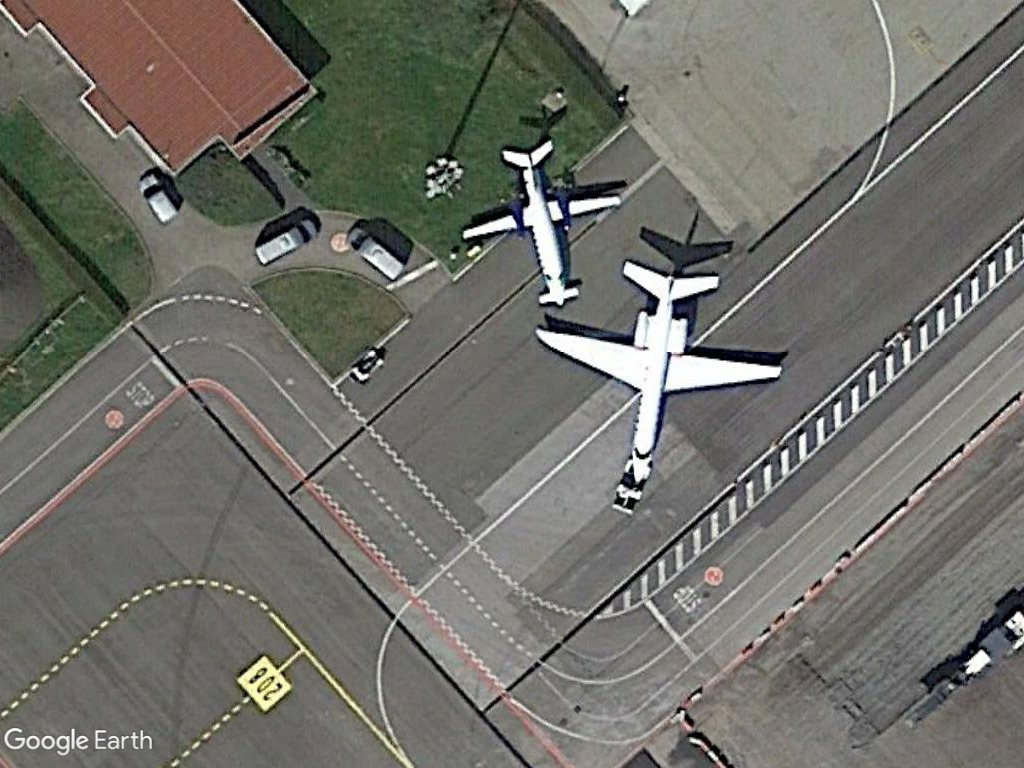chartered: (526, 266, 784, 485), (462, 144, 625, 310)
van: (339, 223, 409, 282), (250, 215, 321, 269), (134, 171, 182, 227)
